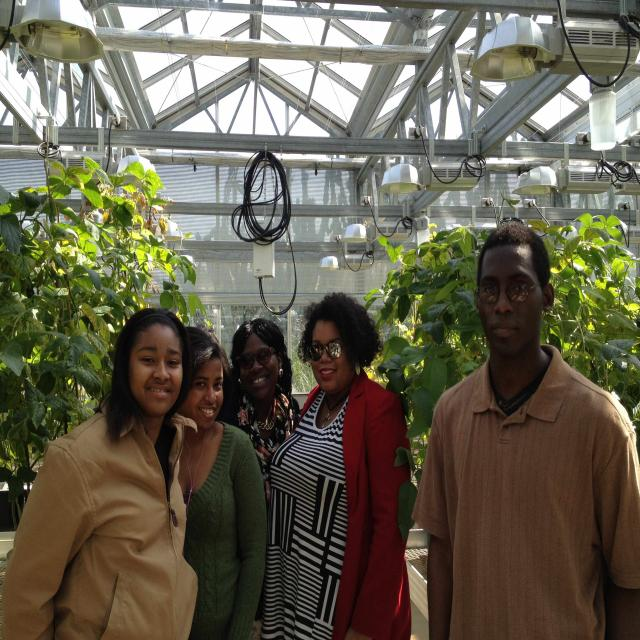body: (416, 218, 640, 640), (0, 296, 207, 640), (260, 283, 418, 640), (174, 321, 271, 638), (222, 316, 310, 507)
